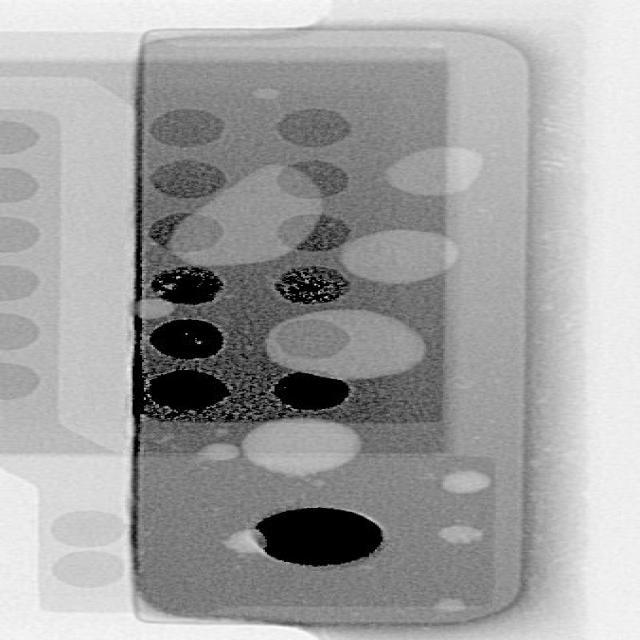void: (170, 165, 322, 266), (266, 310, 424, 380), (242, 420, 361, 477), (340, 230, 456, 284), (385, 147, 483, 195), (223, 529, 273, 559), (442, 470, 490, 494), (439, 525, 482, 544), (138, 298, 175, 319), (196, 443, 239, 461), (434, 598, 465, 610), (253, 88, 278, 98)
